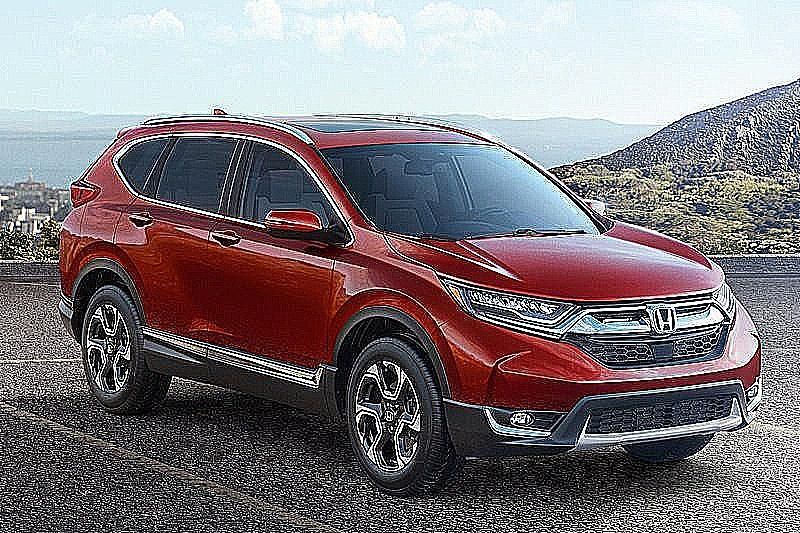Car hood: (380, 219, 748, 305)
Driver-s door - -F-R-: (212, 116, 345, 375)
Fender - -F-R-: (327, 218, 465, 428)
Fender - -R-R-: (73, 179, 143, 287)
Front bumper: (429, 316, 769, 461)
Headlight - -L-: (697, 275, 743, 318)
Headlight - -R-: (433, 272, 586, 335)
Passenger-s door - -R-R-: (115, 117, 217, 353)
Rear bumper: (54, 207, 82, 351)
Rear light - -R-: (63, 173, 107, 213)
Side bumper - -R-: (135, 325, 346, 431)
Side mirror - -L-: (576, 192, 611, 223)
Side mirror - -R-: (252, 201, 340, 247)
